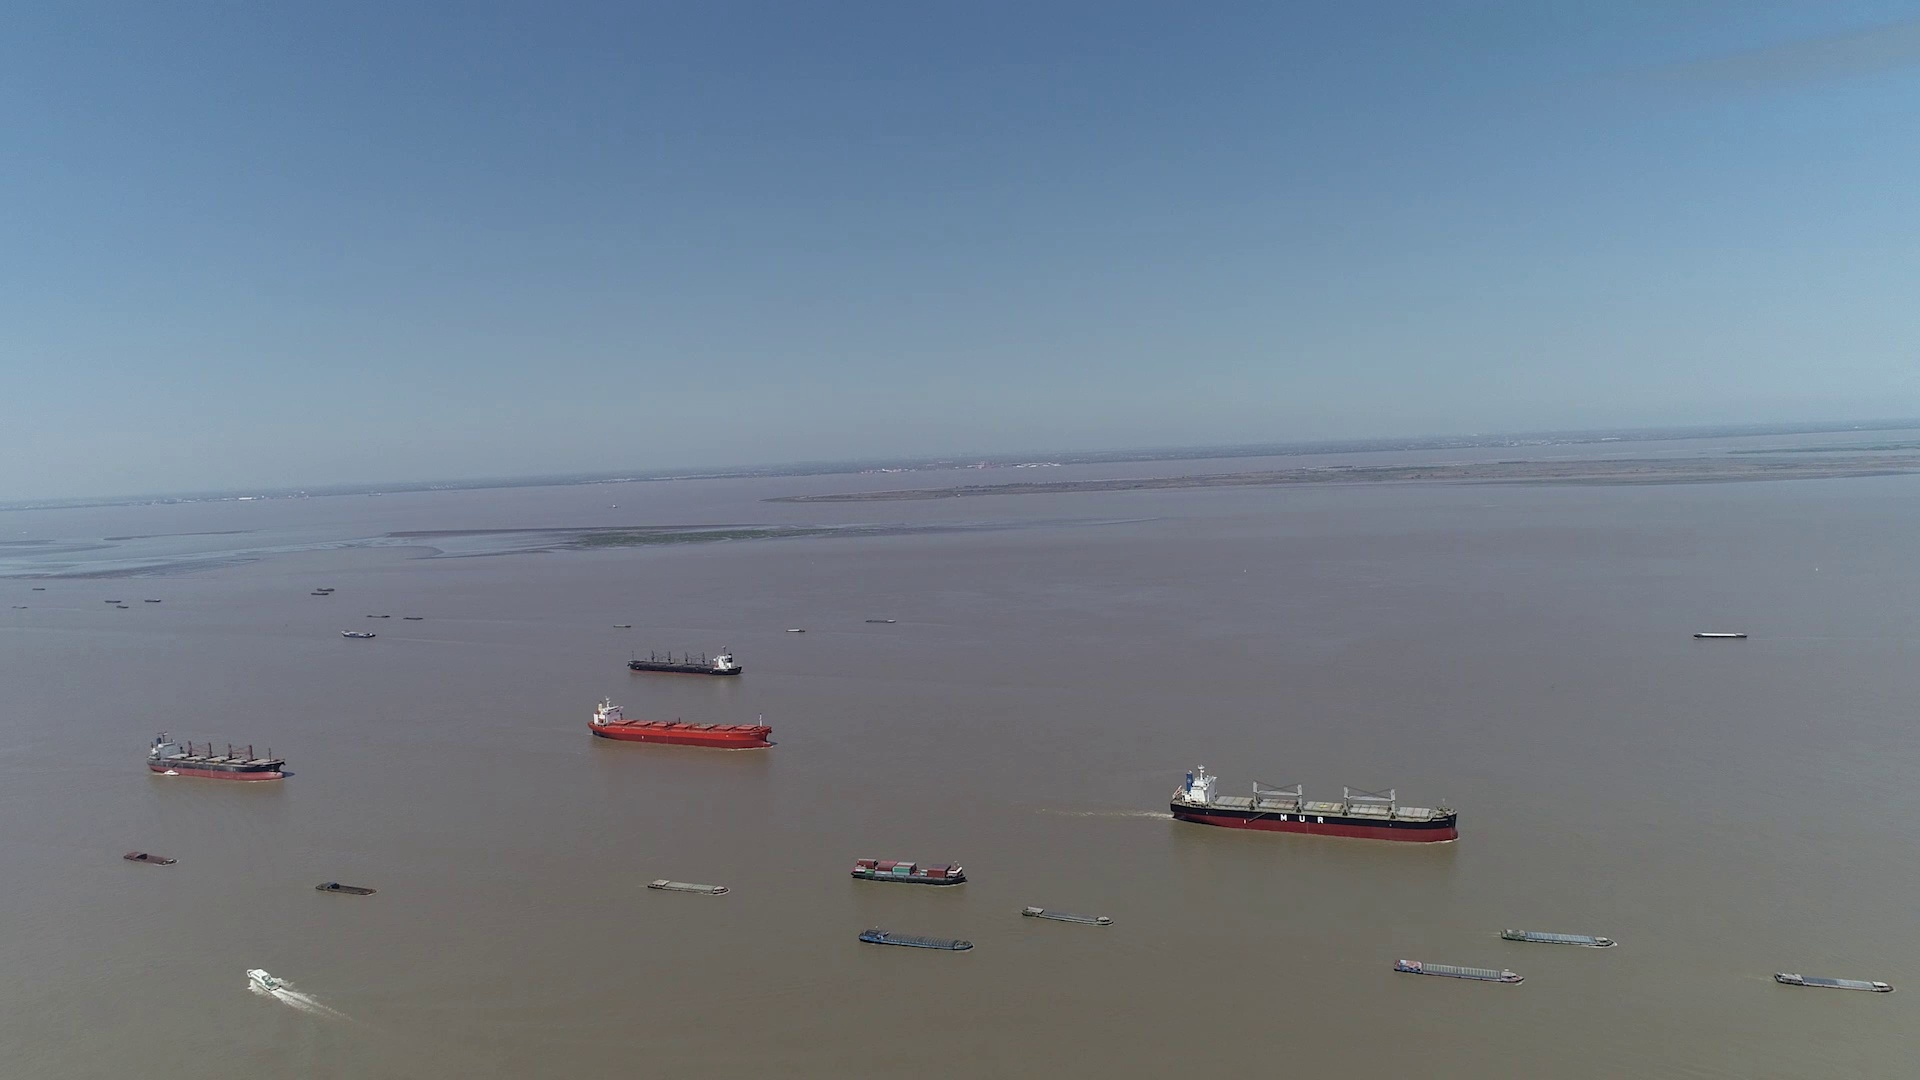ship: (1168, 765, 1458, 843), (588, 698, 771, 748), (152, 732, 287, 782), (625, 647, 742, 676), (1391, 957, 1526, 982), (851, 857, 967, 886), (1771, 971, 1894, 992), (857, 928, 976, 949), (1499, 927, 1615, 948), (1025, 905, 1109, 924), (647, 877, 731, 894), (315, 882, 377, 895), (121, 851, 173, 865), (247, 967, 278, 989), (1697, 632, 1746, 640), (342, 630, 375, 638)
